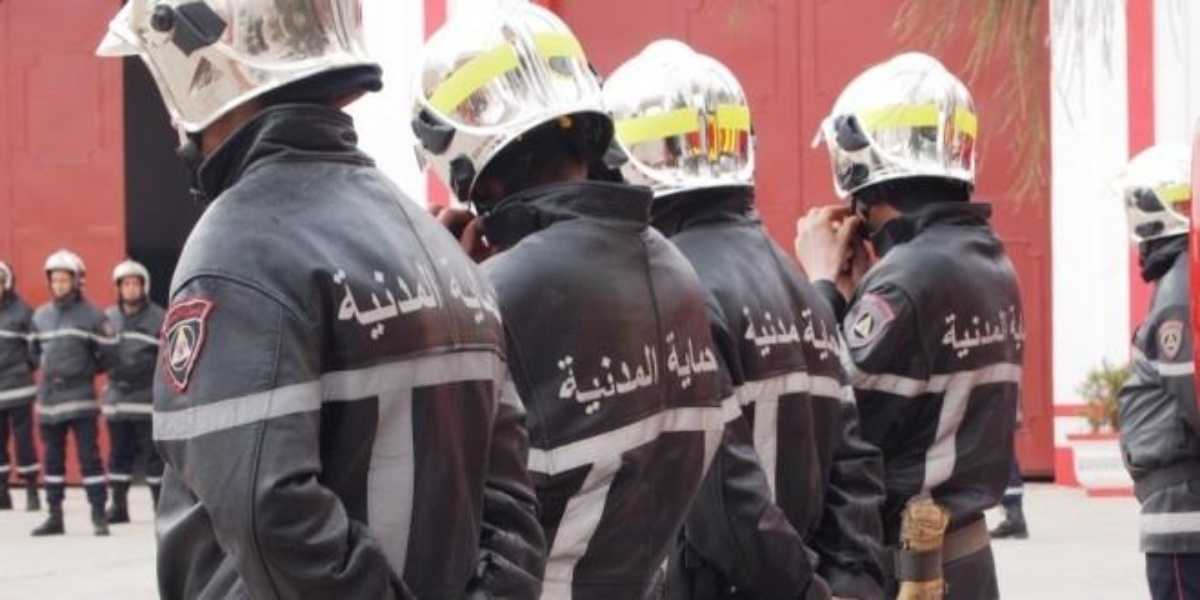text: (545, 341, 560, 431), (561, 341, 576, 431), (577, 341, 592, 431), (593, 341, 608, 431), (609, 341, 624, 431), (625, 341, 640, 431), (641, 341, 656, 431), (321, 261, 336, 351), (337, 261, 352, 351), (353, 261, 368, 351), (369, 261, 384, 351), (385, 261, 400, 351), (401, 261, 416, 351), (417, 261, 432, 351), (433, 261, 448, 351), (433, 253, 448, 330), (449, 253, 464, 330), (465, 253, 480, 330), (481, 253, 496, 330), (705, 328, 721, 393), (673, 328, 688, 393), (689, 328, 704, 393), (801, 301, 816, 364), (817, 301, 832, 364), (833, 301, 848, 364), (753, 302, 768, 362), (769, 302, 784, 362), (785, 302, 800, 362), (945, 308, 960, 361), (961, 308, 976, 361), (977, 308, 992, 361), (993, 308, 1008, 361), (1009, 302, 1024, 353), (661, 328, 672, 393), (741, 302, 752, 362), (313, 261, 320, 351), (497, 253, 504, 330), (657, 341, 662, 431), (428, 253, 432, 330), (939, 308, 944, 361), (1025, 302, 1030, 353), (542, 341, 544, 431), (849, 301, 851, 364), (1009, 308, 1011, 361), (449, 261, 450, 351), (801, 302, 802, 362)
